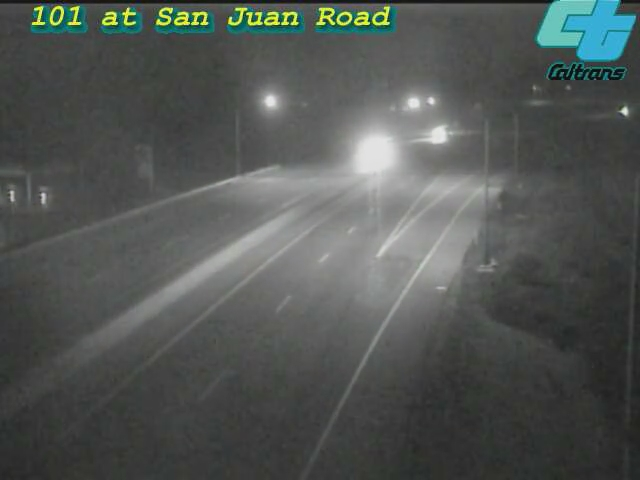vehicle: (348, 127, 398, 177), (417, 110, 467, 160), (602, 87, 640, 137)
